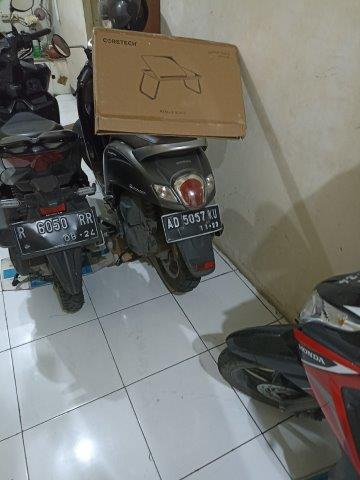kardus: (93, 26, 246, 137)
